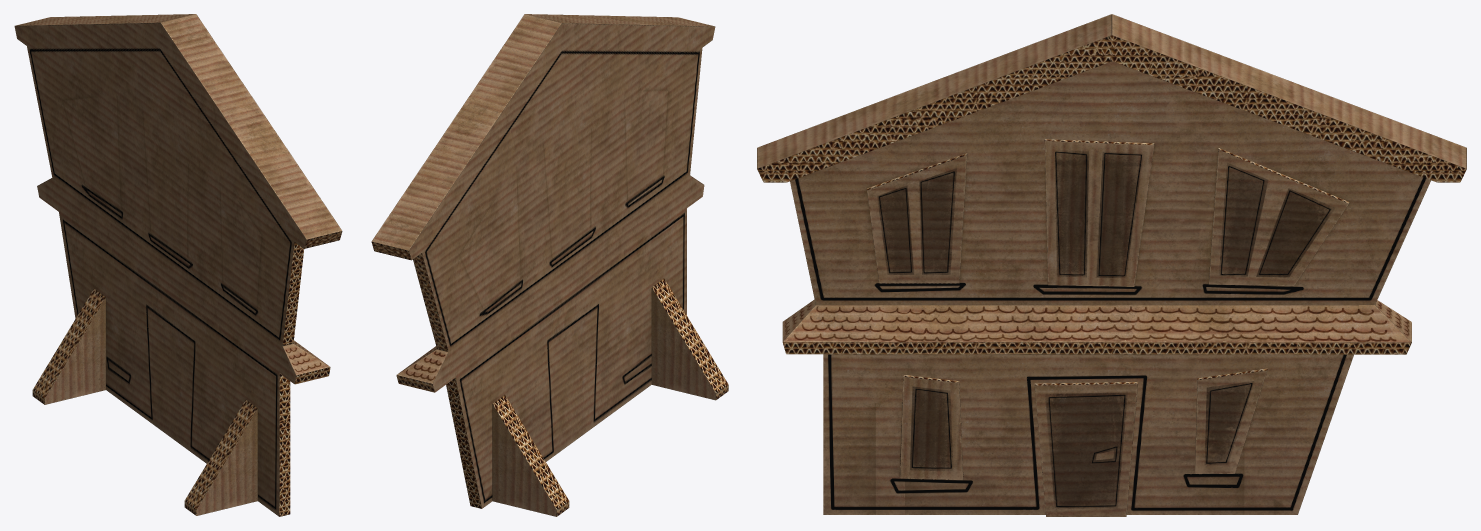
Rendered from house_02.fbx.
3 renders of one model, left to right at view 1: azimuth 30°, elevation 25°; view 2: azimuth 150°, elevation 25°; view 3: azimuth 270°, elevation 25°, orthographic. The views are drawn at different scales.
Visible parts, largest first — view 1: Cube; view 2: Cube; view 3: Cube.
Boxes of the visible parts, box(x1,y1,x2,y2) form: Cube: box(14, 14, 342, 516); Cube: box(371, 14, 728, 516); Cube: box(757, 14, 1466, 516).
Size of the model in its own units: 208 by 834 by 1085.
Materials: 1 (1 with a texture image).
